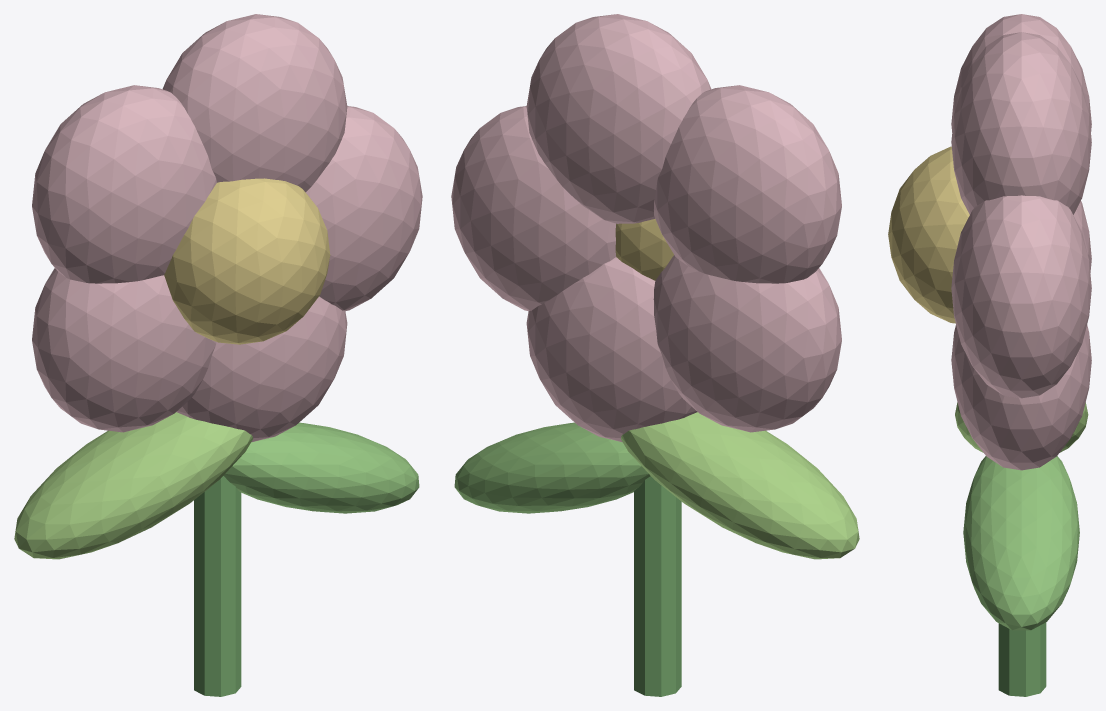
The model's file is flower_pink.glb.
The picture shows the model from 3 angles, left to right: view 1: azimuth 30°, elevation 25°; view 2: azimuth 150°, elevation 25°; view 3: azimuth 270°, elevation 25°; orthographic projection.
Visible parts, largest first — view 1: flower_pink_05_petal, flower_pink_04_petal, flower_pink_06_petal, flower_pink_08_center, flower_pink_01_leaf, flower_pink_03_petal, flower_pink_07_petal, flower_pink_02_leaf, flower_pink_00_stem; view 2: flower_pink_05_petal, flower_pink_04_petal, flower_pink_06_petal, flower_pink_03_petal, flower_pink_01_leaf, flower_pink_07_petal, flower_pink_02_leaf, flower_pink_00_stem, flower_pink_08_center; view 3: flower_pink_03_petal, flower_pink_04_petal, flower_pink_02_leaf, flower_pink_07_petal, flower_pink_08_center, flower_pink_00_stem, flower_pink_05_petal, flower_pink_01_leaf, flower_pink_06_petal.
Part boxes in pixels (box(x1,y1,x2,y2)): flower_pink_05_petal: box(32, 85, 216, 283); flower_pink_04_petal: box(162, 14, 347, 192); flower_pink_06_petal: box(32, 268, 216, 432); flower_pink_08_center: box(164, 178, 330, 344); flower_pink_01_leaf: box(14, 412, 252, 559); flower_pink_03_petal: box(306, 106, 422, 311); flower_pink_07_petal: box(176, 296, 347, 442); flower_pink_02_leaf: box(223, 422, 419, 513); flower_pink_00_stem: box(194, 476, 241, 696); flower_pink_05_petal: box(654, 85, 841, 283); flower_pink_04_petal: box(526, 14, 711, 223); flower_pink_06_petal: box(653, 255, 841, 432); flower_pink_03_petal: box(451, 106, 616, 311); flower_pink_01_leaf: box(621, 412, 859, 559); flower_pink_07_petal: box(526, 257, 697, 442); flower_pink_02_leaf: box(454, 422, 650, 513); flower_pink_00_stem: box(634, 476, 681, 696); flower_pink_08_center: box(615, 219, 673, 280); flower_pink_03_petal: box(951, 195, 1091, 398); flower_pink_04_petal: box(951, 32, 1091, 214); flower_pink_02_leaf: box(963, 456, 1079, 630); flower_pink_07_petal: box(951, 324, 1091, 470); flower_pink_08_center: box(888, 146, 969, 323); flower_pink_00_stem: box(998, 622, 1046, 696); flower_pink_05_petal: box(951, 14, 1091, 132); flower_pink_01_leaf: box(955, 402, 1088, 452); flower_pink_06_petal: box(1073, 201, 1091, 272).
Bounding box in the file's own units: 0.6573 × 1.04 × 0.29.
